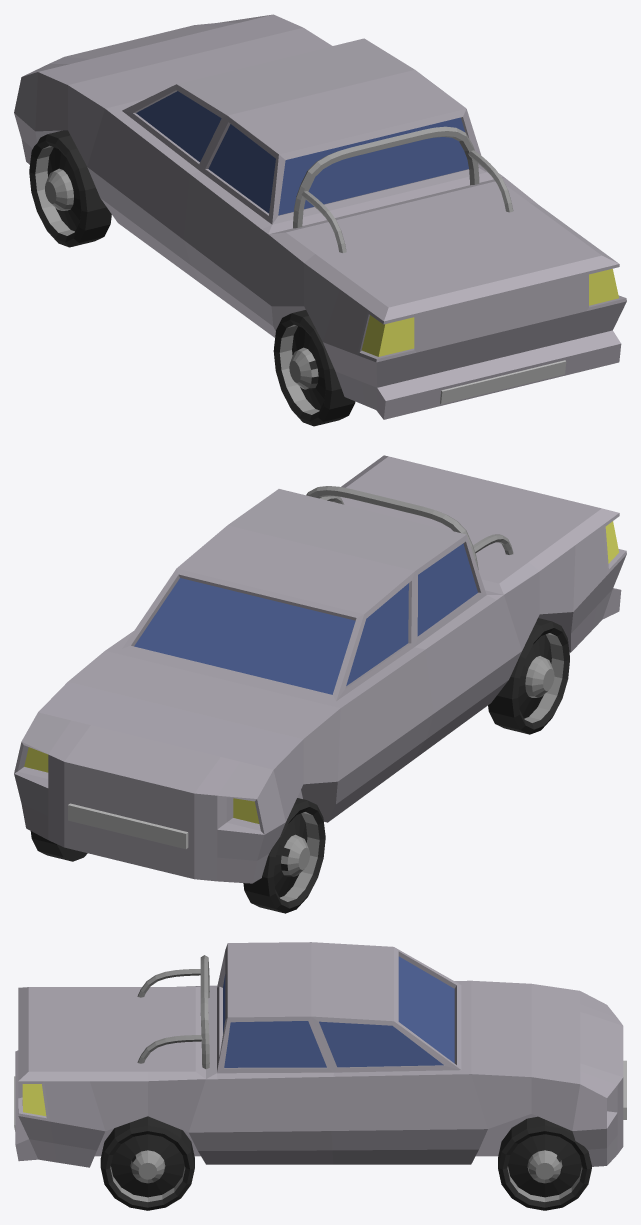
The model's file is TruckWhite.fbx.
3 views of the same model, one above another, from view 1: azimuth 30°, elevation 25°; view 2: azimuth 150°, elevation 25°; view 3: azimuth 270°, elevation 25° (orthographic). The views are drawn at different scales.
Visible parts, largest first — view 1: Car2.002; view 2: Car2.002; view 3: Car2.002.
Boxes of the visible parts, x1,y1,x2,y2 form: Car2.002: (14,14,626,426); Car2.002: (14,455,626,913); Car2.002: (14,942,626,1210).
Size of the model in its own units: 122 by 105 by 314.
